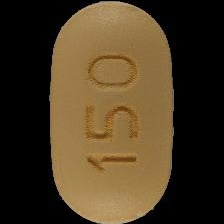47781-103: (0, 0, 224, 224)
